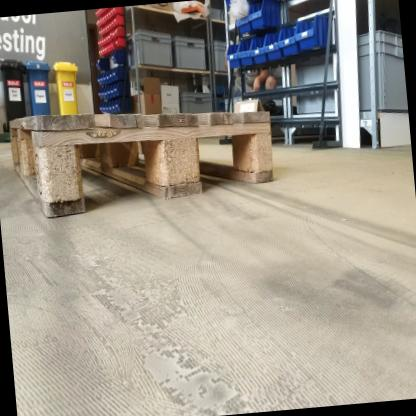BoxFace: (8, 99, 280, 227)
